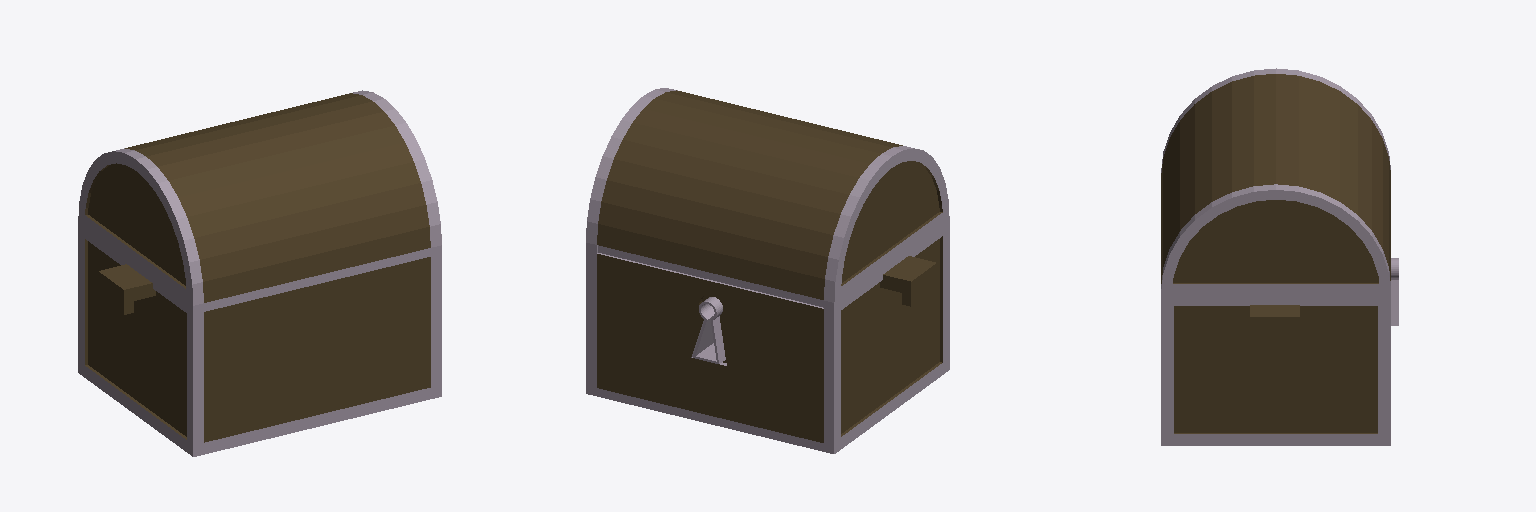
File: TreasureBox_ObjFile.obj
The picture shows the model from 3 angles: view 1: azimuth 30°, elevation 25°; view 2: azimuth 150°, elevation 25°; view 3: azimuth 270°, elevation 25°; orthographic projection.
Parts seen in each view (by area): view 1: Mesh1 Model; view 2: Mesh1 Model; view 3: Mesh1 Model.
Boxes of the visible parts, x1=… form: Mesh1 Model: x1=78, y1=90, x2=441, y2=456; Mesh1 Model: x1=586, y1=88, x2=949, y2=453; Mesh1 Model: x1=1161, y1=68, x2=1398, y2=445.
Bounding box in the file's own units: 248 × 201 × 170.